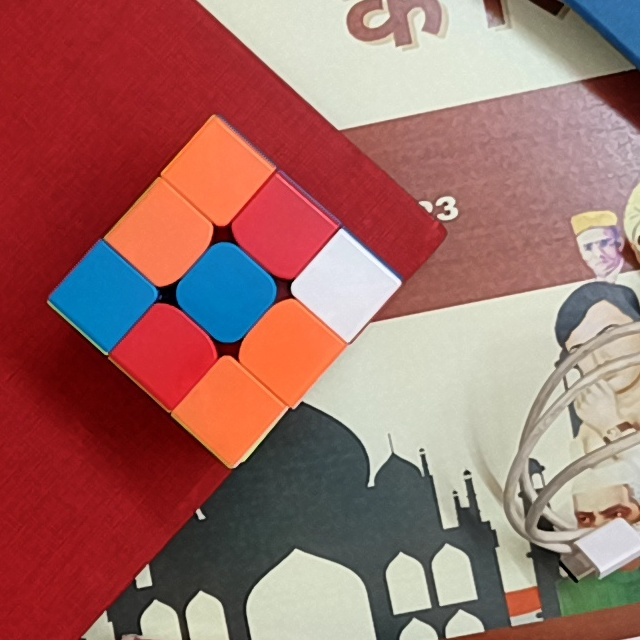tile: (253, 200, 309, 258), (198, 263, 254, 321), (200, 383, 256, 439), (136, 206, 191, 263), (191, 141, 245, 199), (263, 318, 317, 376), (77, 267, 132, 322), (139, 327, 194, 381), (319, 259, 375, 312)
